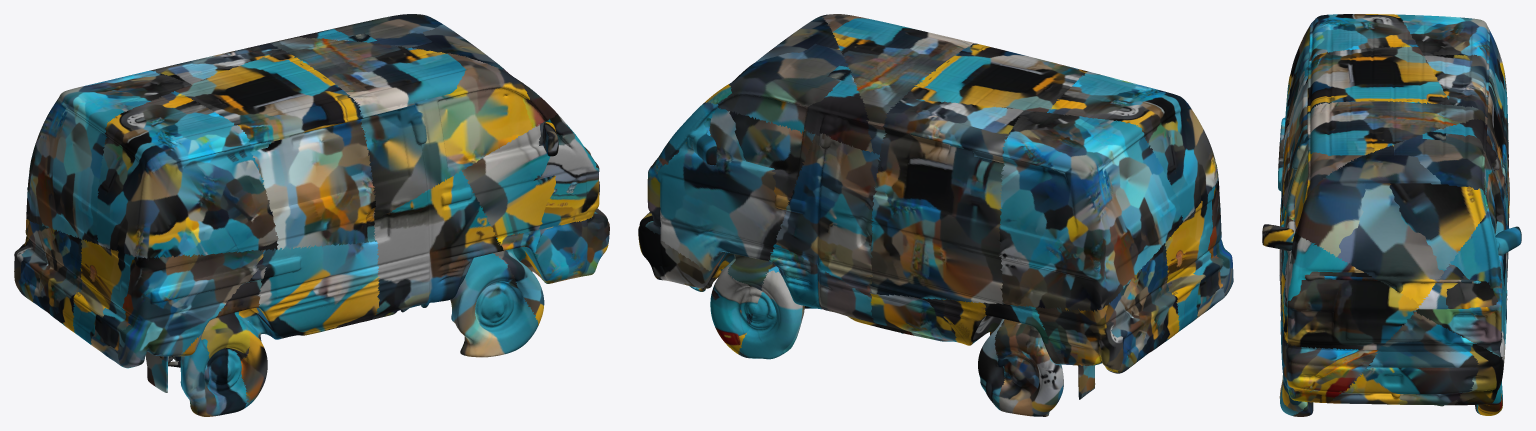
3 renders of one model, left to right at view 1: azimuth 30°, elevation 25°; view 2: azimuth 150°, elevation 25°; view 3: azimuth 270°, elevation 25°, orthographic. The views are drawn at different scales.
Visible parts, largest first — view 1: tripo_node_f9dce86c-7fda-464a-bed2-c2ba7b008d8b; view 2: tripo_node_f9dce86c-7fda-464a-bed2-c2ba7b008d8b; view 3: tripo_node_f9dce86c-7fda-464a-bed2-c2ba7b008d8b.
Boxes of the visible parts, bbox=[...] form: tripo_node_f9dce86c-7fda-464a-bed2-c2ba7b008d8b: bbox=[14, 14, 609, 416]; tripo_node_f9dce86c-7fda-464a-bed2-c2ba7b008d8b: bbox=[638, 14, 1233, 416]; tripo_node_f9dce86c-7fda-464a-bed2-c2ba7b008d8b: bbox=[1262, 14, 1521, 416].
Size of the model in its own units: 100 by 54.48 by 50.46.
Materials: 1 (1 with a texture image).
